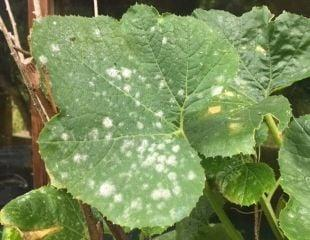powdery_mildew: (27, 10, 286, 234)
